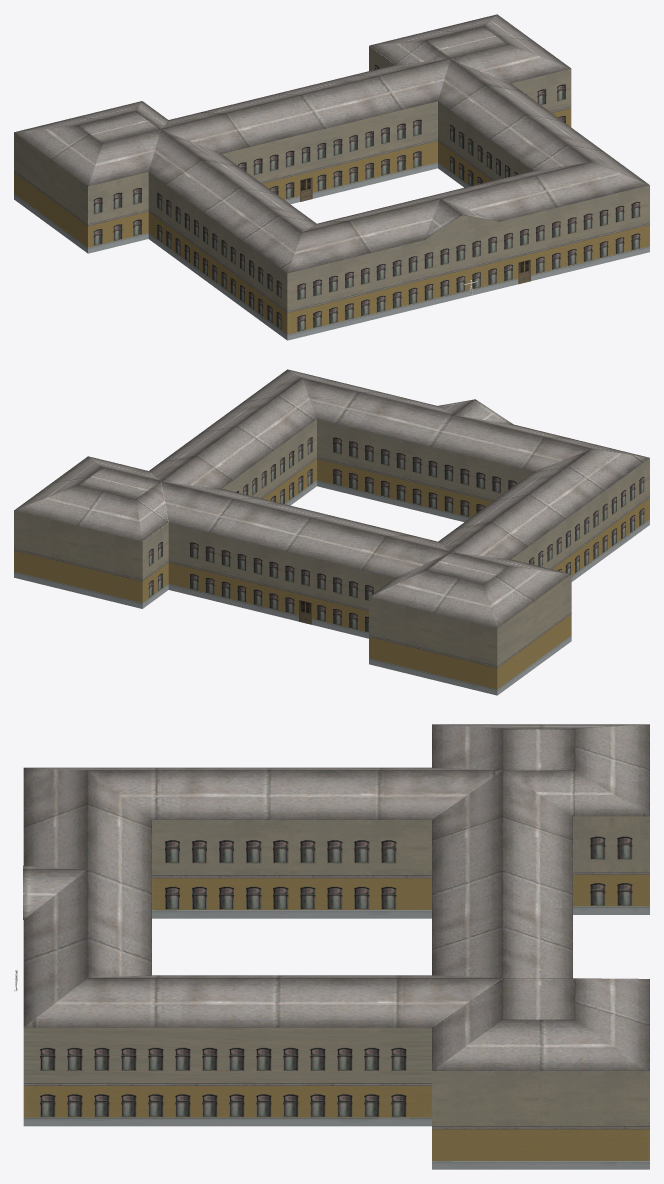
Rendered from iat old.glb.
3 renders of one model, top to bottom at view 1: azimuth 30°, elevation 25°; view 2: azimuth 150°, elevation 25°; view 3: azimuth 270°, elevation 25°, orthographic. The views are drawn at different scales.
Parts seen in each view (by area): view 1: Cube_1, Cloner, Cube; view 2: Cube_1, Cloner, Cube; view 3: Cube_1, Cloner, Cube.
Boxes of the visible parts, <box> form: Cube_1: <box>14,14,649,340</box>; Cloner: <box>93,64,640,331</box>; Cube: <box>424,199,498,239</box>; Cube_1: <box>14,369,649,695</box>; Cloner: <box>148,437,644,632</box>; Cube: <box>438,399,512,424</box>; Cube_1: <box>23,724,649,1169</box>; Cloner: <box>40,836,632,1117</box>; Cube: <box>23,865,86,919</box>.
Size of the model in its own units: 640 by 105 by 496.
7 materials, 6 textured.
